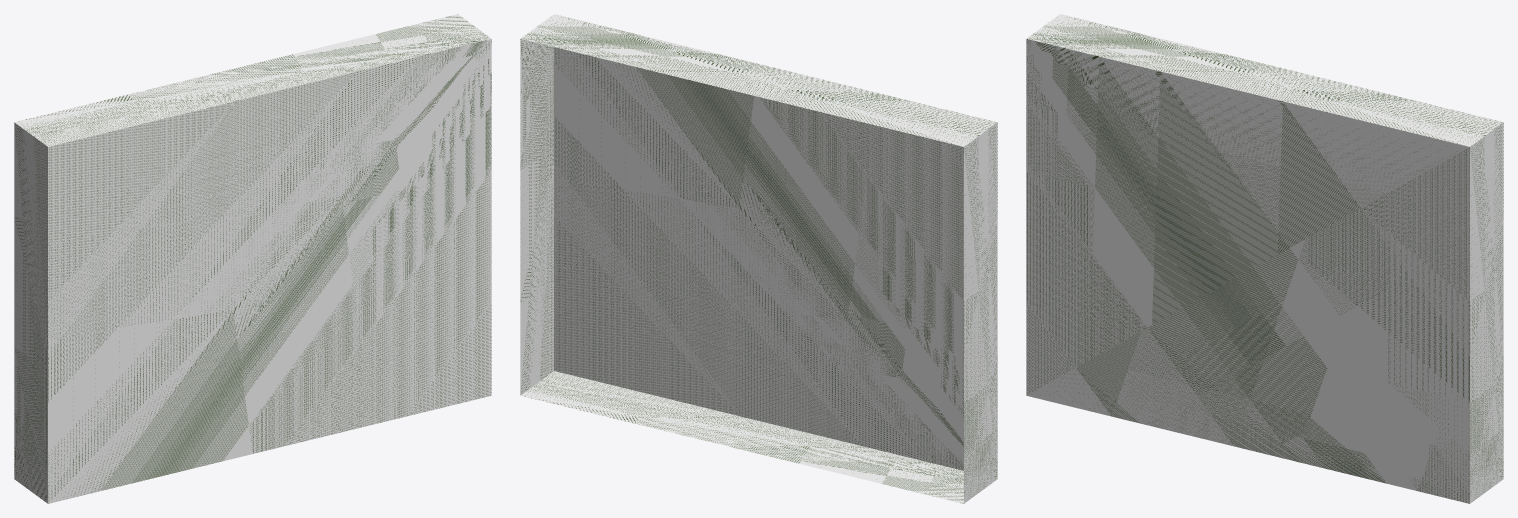
File: original-46.obj
The picture shows the model from 3 angles, left to right: view 1: azimuth 30°, elevation 25°; view 2: azimuth 150°, elevation 25°; view 3: azimuth 330°, elevation 25°; orthographic projection.
Visible parts, largest first — view 1: mesh2/mesh2-geometry/material_4/component_5#mesh2-geometry; view 2: mesh2/mesh2-geometry/material_4/component_5#mesh2-geometry; view 3: mesh2/mesh2-geometry/material_4/component_5#mesh2-geometry.
Part boxes in pixels (bbox=[...]): mesh2/mesh2-geometry/material_4/component_5#mesh2-geometry: bbox=[14, 14, 491, 503]; mesh2/mesh2-geometry/material_4/component_5#mesh2-geometry: bbox=[520, 14, 997, 503]; mesh2/mesh2-geometry/material_4/component_5#mesh2-geometry: bbox=[1026, 14, 1503, 503].
Size of the model in its own units: 0.0503 by 0.0387 by 0.00665.
